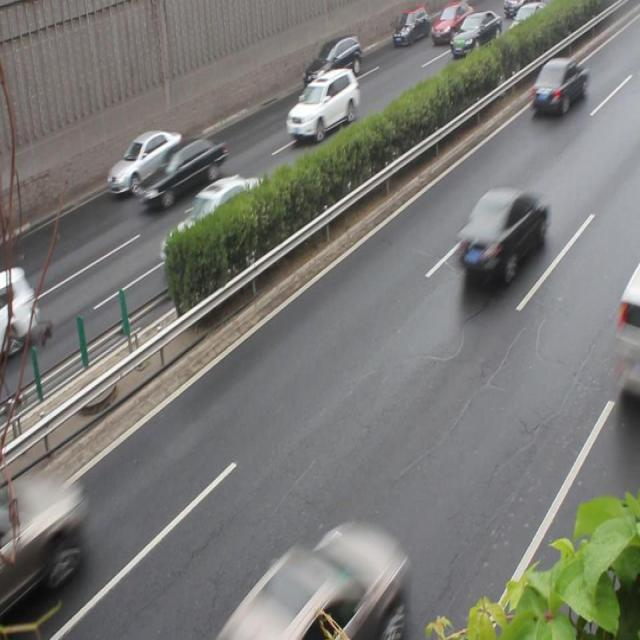car: (222, 520, 404, 640), (0, 469, 80, 618), (157, 174, 266, 274), (454, 186, 547, 283), (140, 138, 224, 208), (284, 66, 358, 141), (106, 130, 182, 195), (529, 59, 587, 118)
